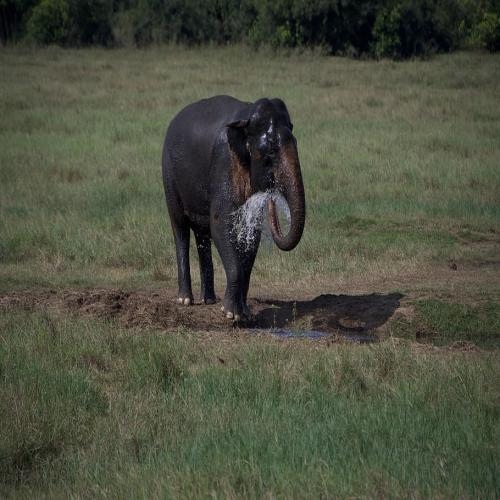asian_elephant-endangered: (162, 98, 307, 323)
